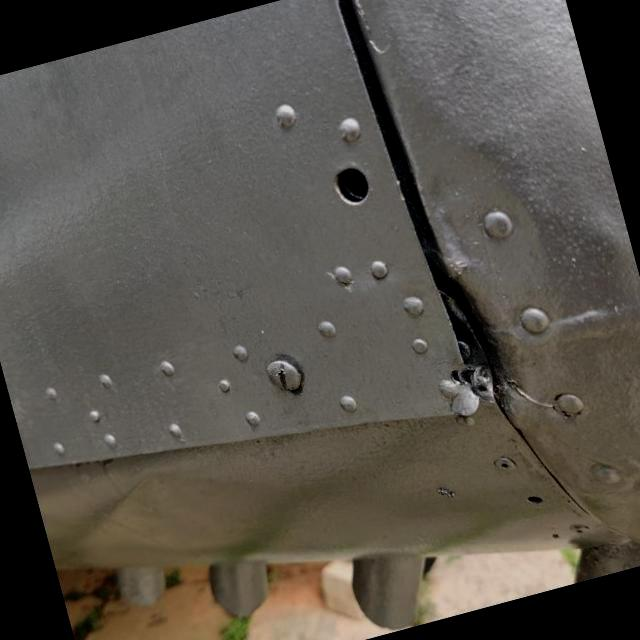Missing Fastener: (332, 166, 368, 204)
